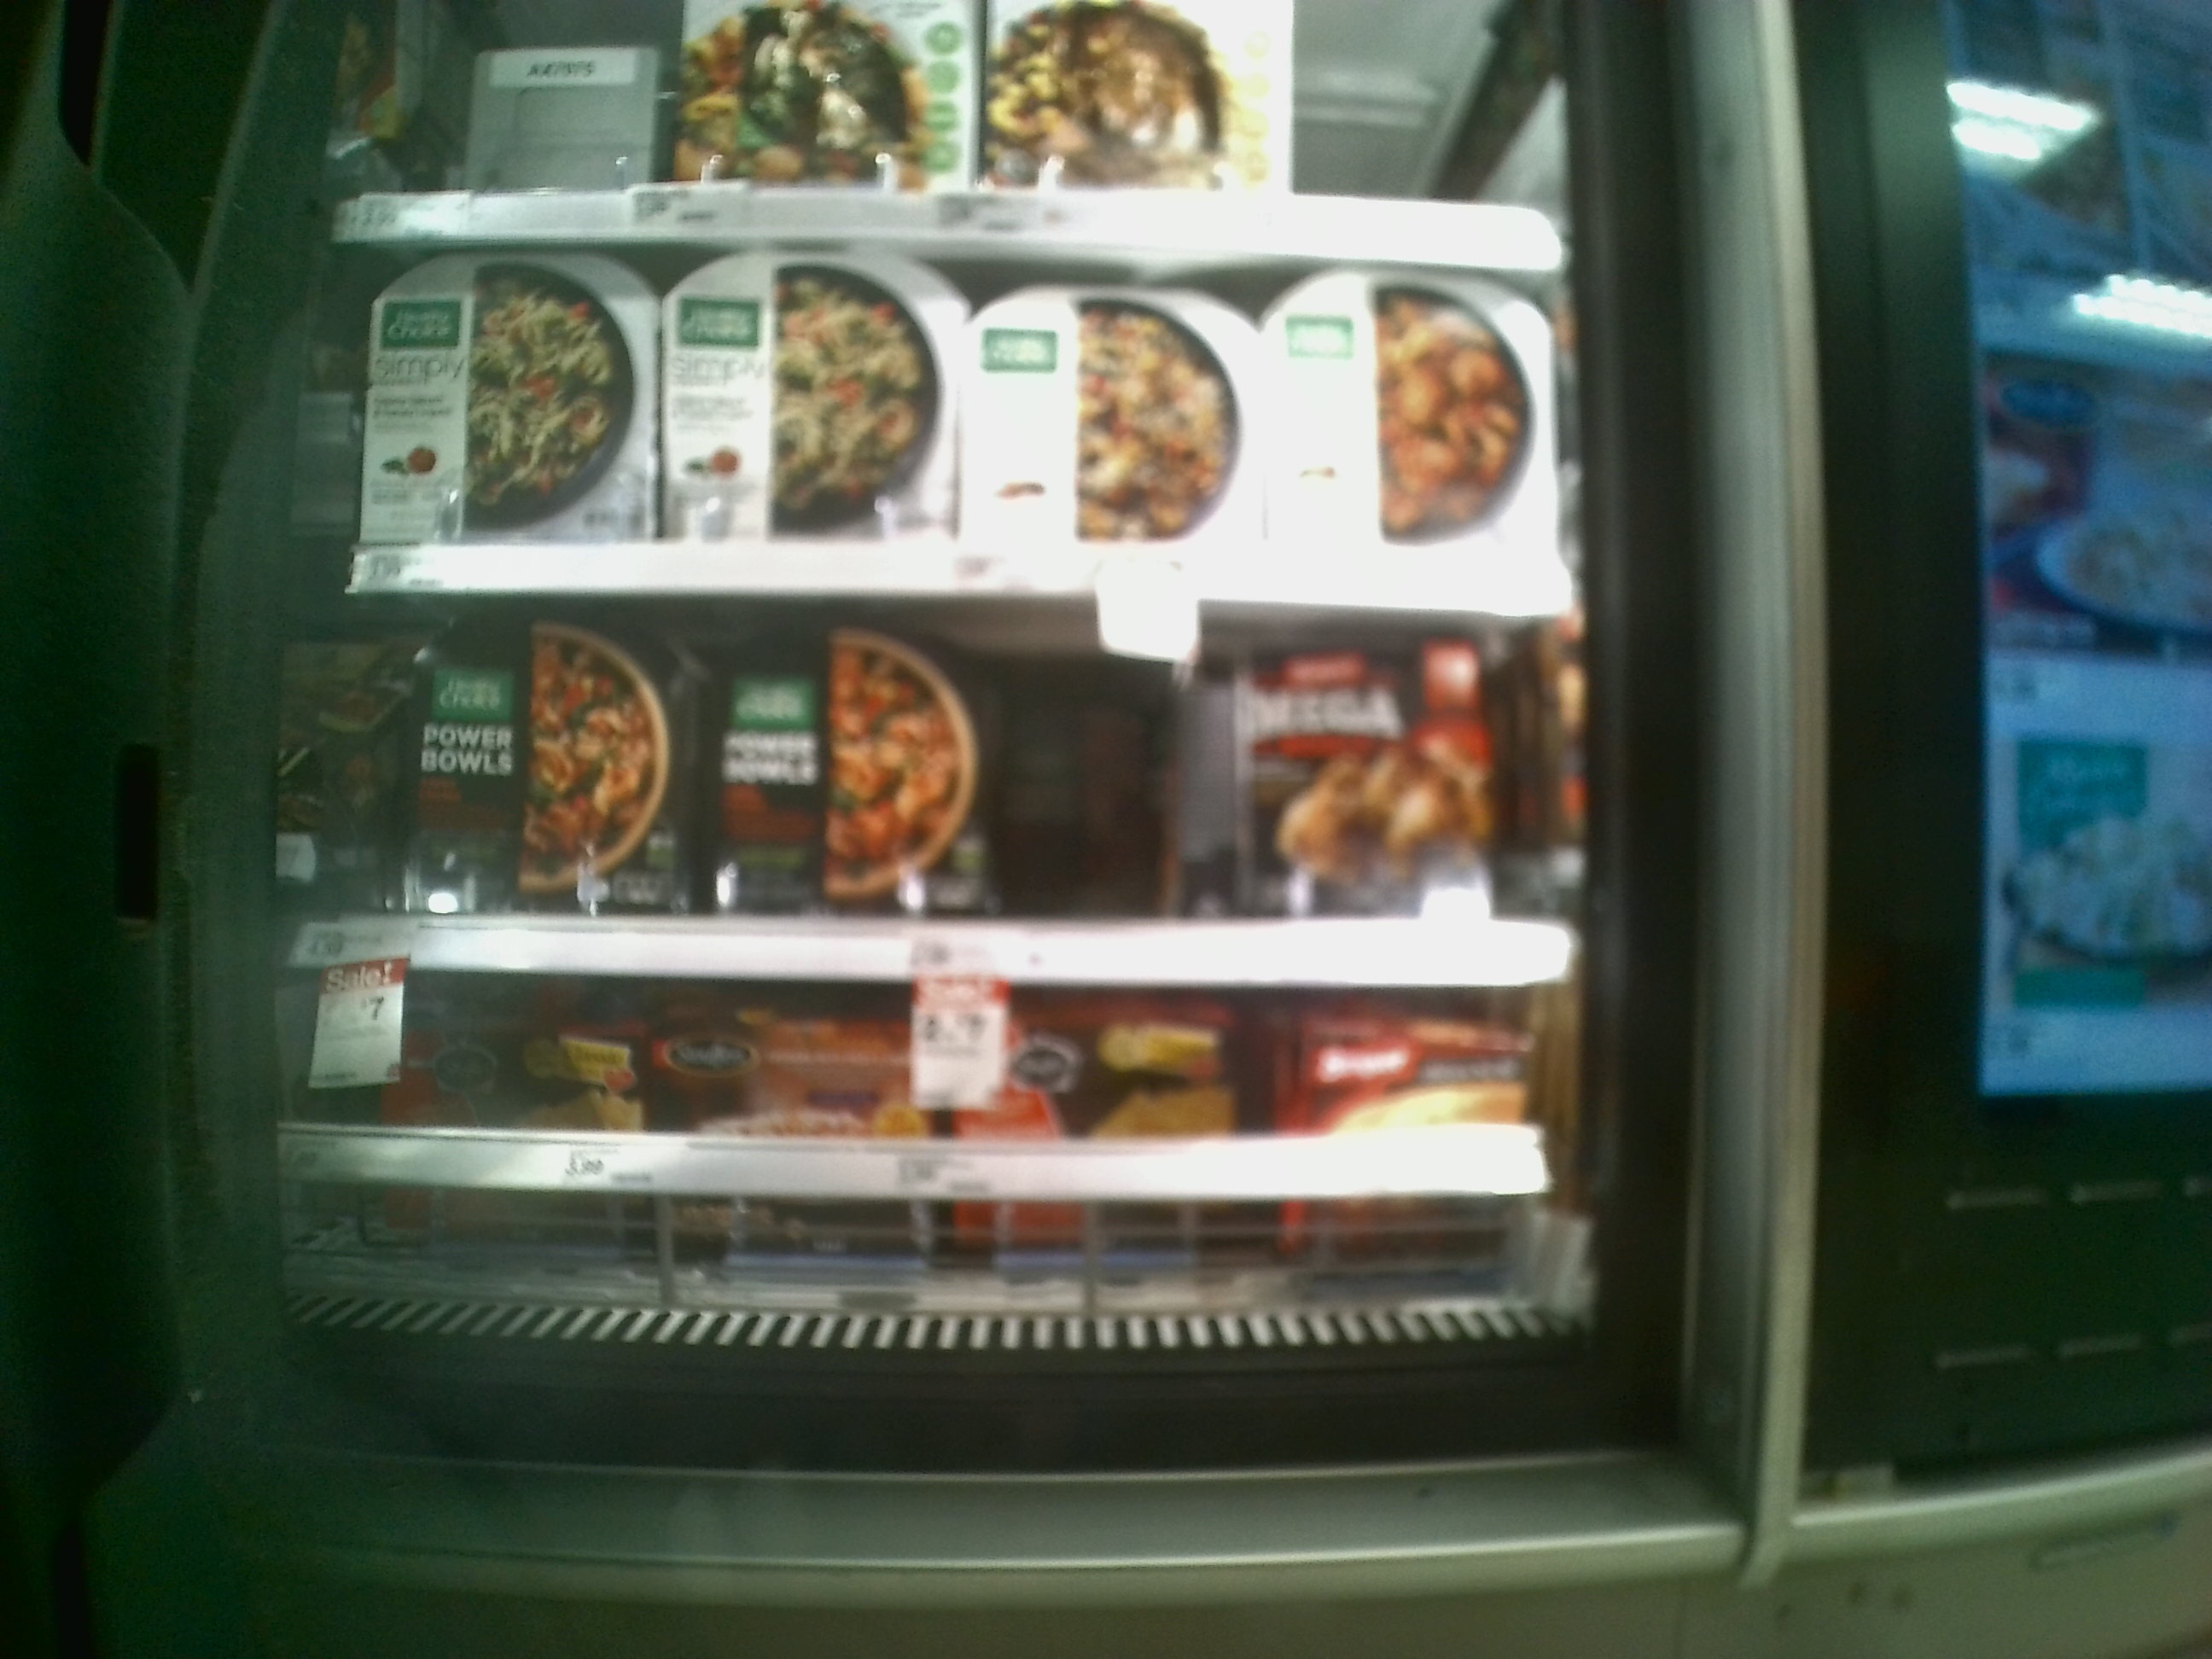pizza: (702, 601, 979, 924), (395, 620, 693, 915), (667, 246, 958, 537), (374, 249, 662, 535), (963, 279, 1268, 538), (1275, 281, 1566, 538), (1230, 643, 1493, 918), (989, 10, 1296, 176), (681, 3, 967, 176)
